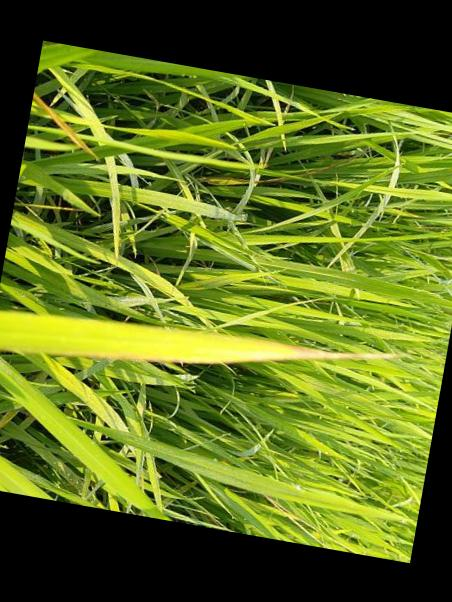Leaf Blight: (126, 324, 405, 363)
